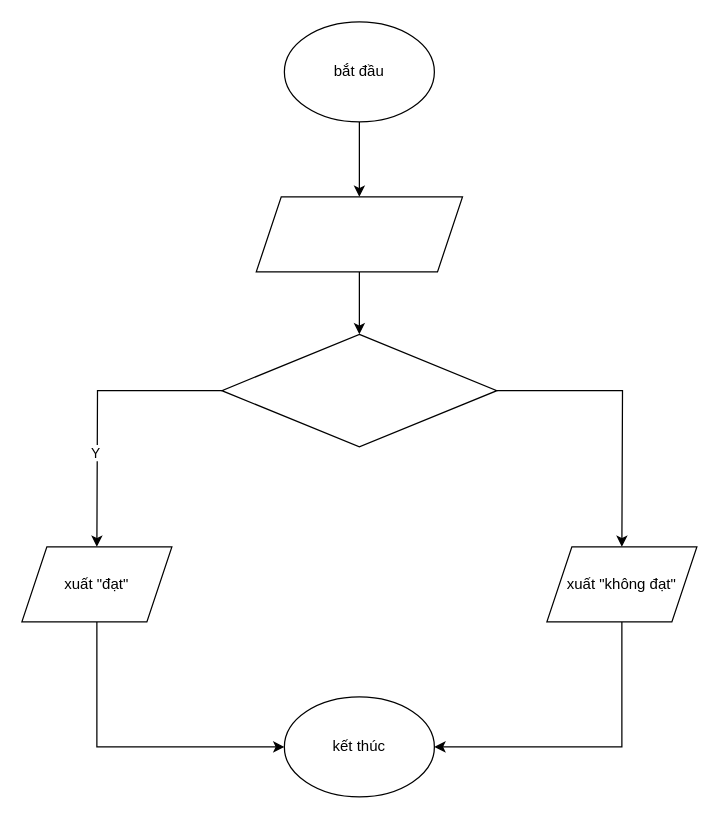
The diagram is 719 pixels wide and 819 high, and some of its shapes have lost their labels. The shapes that lost their labels are listed below. From the top down, each one's centre as x and y in pixels, then its label:
At pixel 358 234: "Nhập vào điểm số".
At pixel 359 390: "kiểm tra điểm có >=5".
